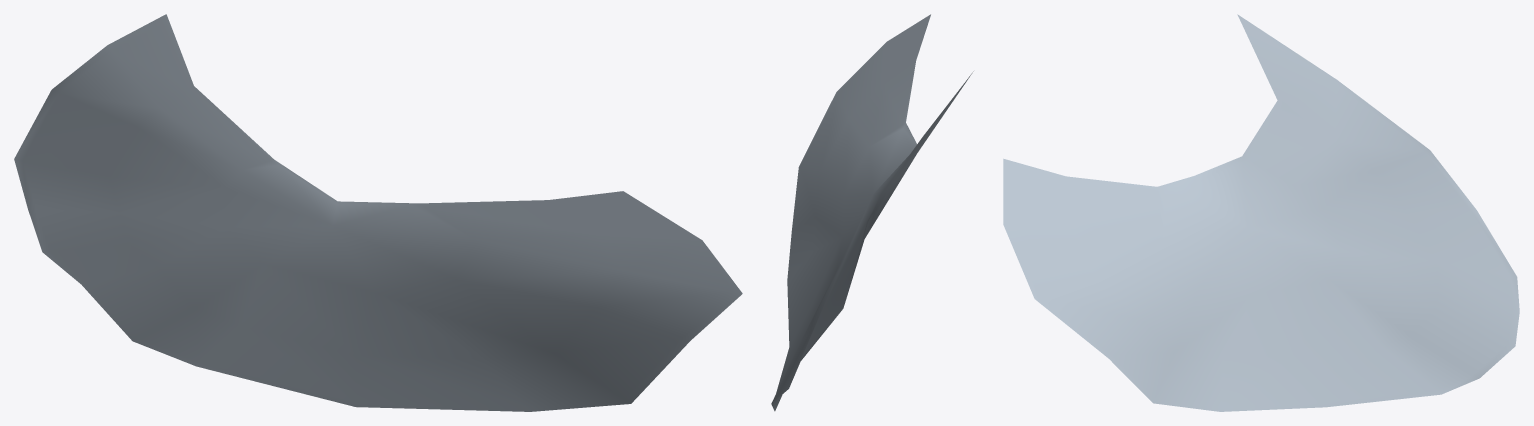
The model's file is obturator-membrane-r.glb.
3 views of the same model, side by side, from view 1: azimuth 30°, elevation 25°; view 2: azimuth 150°, elevation 25°; view 3: azimuth 270°, elevation 25° (orthographic). The views are drawn at different scales.
Visible parts, largest first — view 1: Obturator membrane.r; view 2: Obturator membrane.r; view 3: Obturator membrane.r.
Boxes of the visible parts, bbox=[...] form: Obturator membrane.r: bbox=[14, 14, 742, 411]; Obturator membrane.r: bbox=[771, 14, 973, 411]; Obturator membrane.r: bbox=[1003, 14, 1519, 411].
Size of the model in its own units: 0.028 by 0.0332 by 0.0483.
